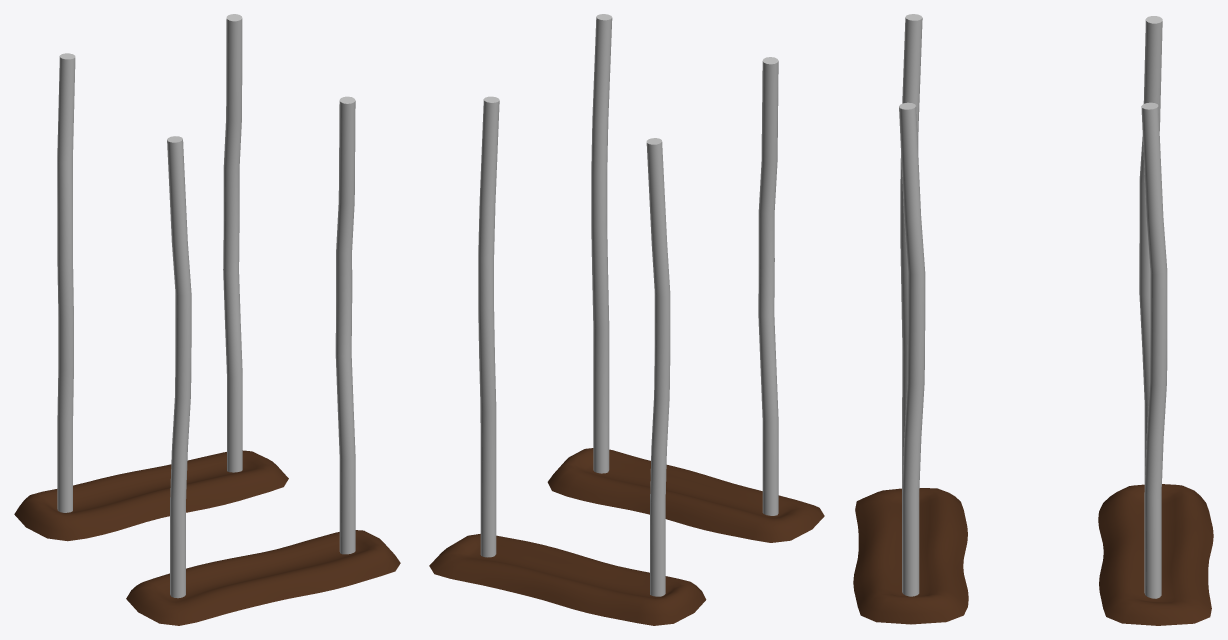
The model's file is Tomato1.fbx.
3 renders of one model, left to right at view 1: azimuth 30°, elevation 25°; view 2: azimuth 150°, elevation 25°; view 3: azimuth 270°, elevation 25°, orthographic. The views are drawn at different scales.
Parts seen in each view (by area): view 1: 1; view 2: 1; view 3: 1.
Part boxes in pixels (x1,y1,x2,y2): 1: [14, 14, 400, 625]; 1: [429, 14, 824, 625]; 1: [853, 14, 1213, 625].
Bounding box in the file's own units: 272 × 470 × 310.
